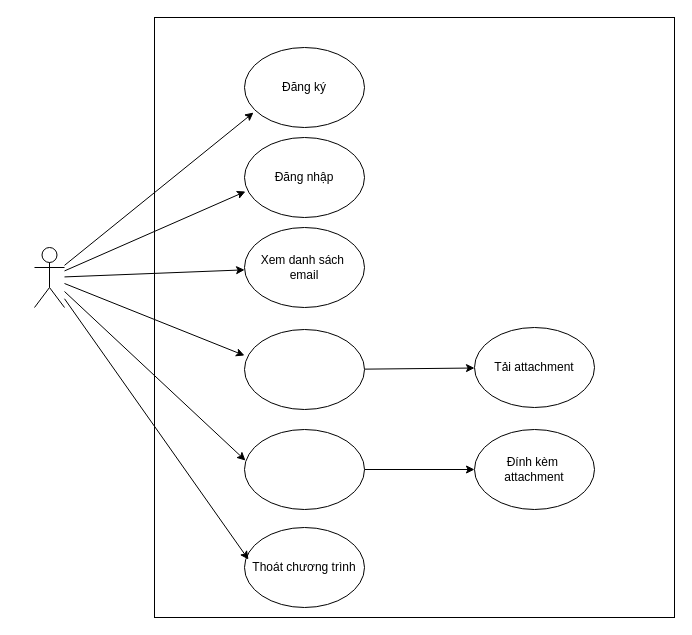
Some shapes in this 692 by 635 pixel diagram are drawn without their labels. The shapes that lost their labels are listed below. From the top down, each one's centre as x and y in pixels, then its label:
At [49,277]: "Người dùng".
At [304,369]: "Xem nội dung email".
At [304,469]: "Gửi email".
